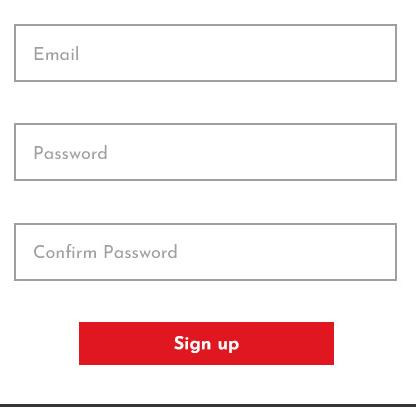button: (77, 320, 339, 368)
field: (9, 119, 403, 186), (12, 220, 400, 285), (12, 21, 402, 83)
